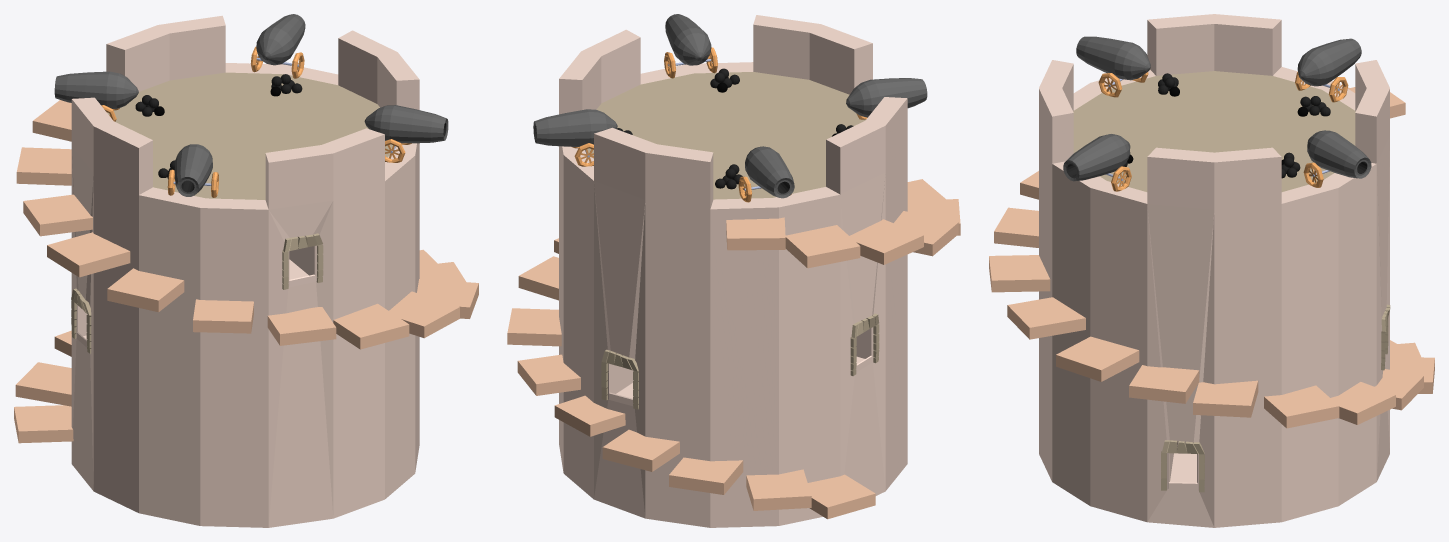
File: CannonTower.fbx
3 renders of one model, left to right at view 1: azimuth 30°, elevation 25°; view 2: azimuth 150°, elevation 25°; view 3: azimuth 270°, elevation 25°, orthographic.
Parts seen in each view (by area): view 1: Tower; view 2: Tower; view 3: Tower.
Boxes of the visible parts, x1,y1,x2,y2 form: Tower: (14, 14, 478, 527); Tower: (507, 14, 960, 527); Tower: (989, 14, 1434, 527).
Bounding box in the file's own units: 311 × 274 × 303.
